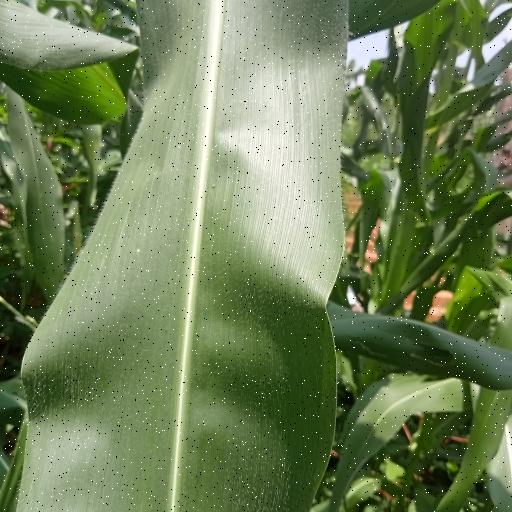Corn_Brown_Spots: (16, 5, 354, 512)
